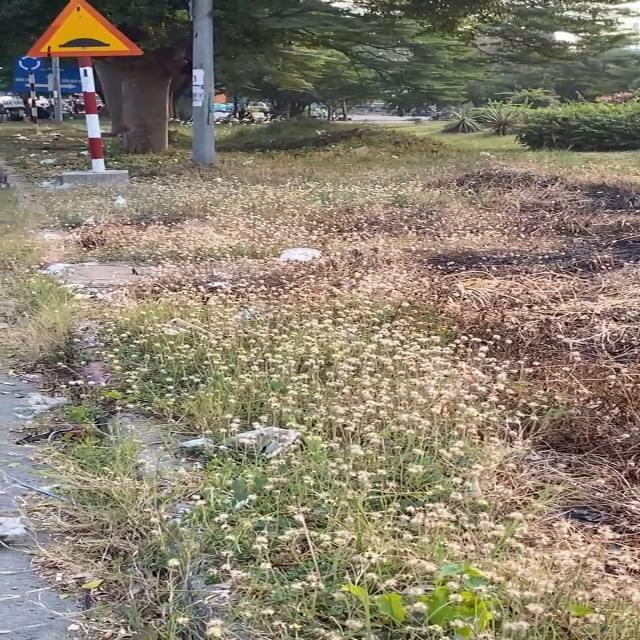221-duong-go-ghe: (29, 1, 148, 58)
303-noi-giao-nhau-chay-theo-vong-xuyen: (14, 54, 42, 72)
